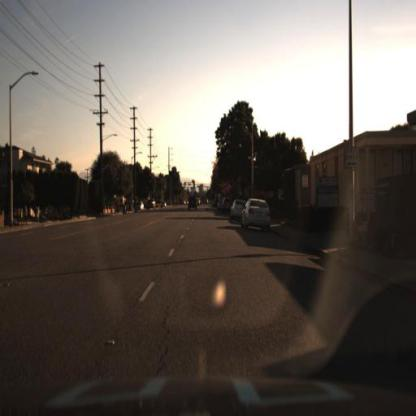car: (242, 198, 273, 229), (229, 199, 248, 222), (186, 195, 199, 216)
